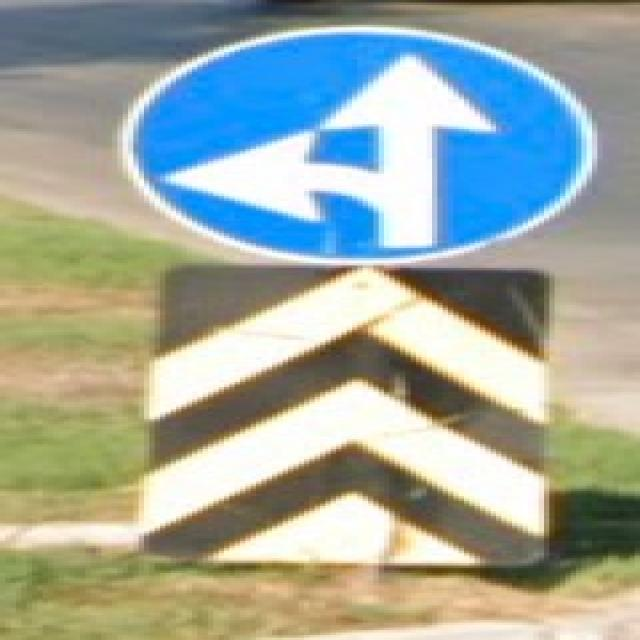Straight or Left: (121, 29, 590, 262)
